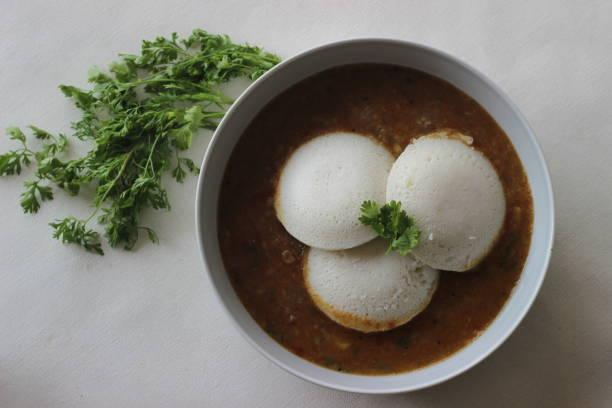idli: (281, 137, 488, 316)
sambhar: (226, 78, 468, 132)
